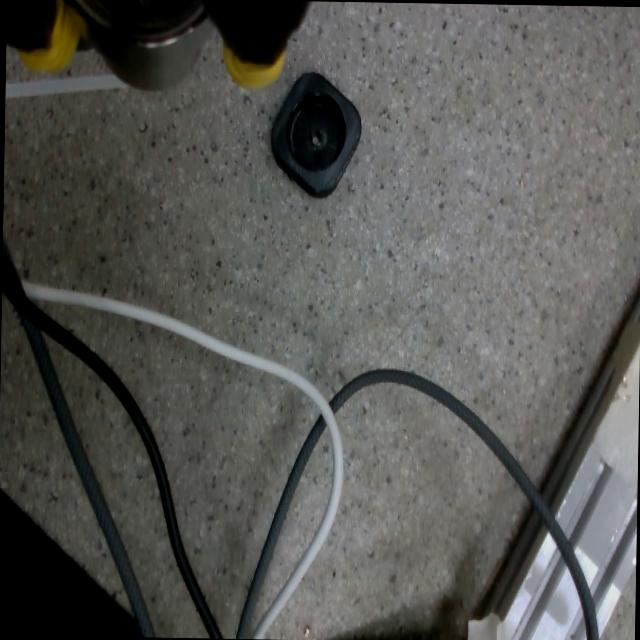cell: (268, 73, 362, 198)
